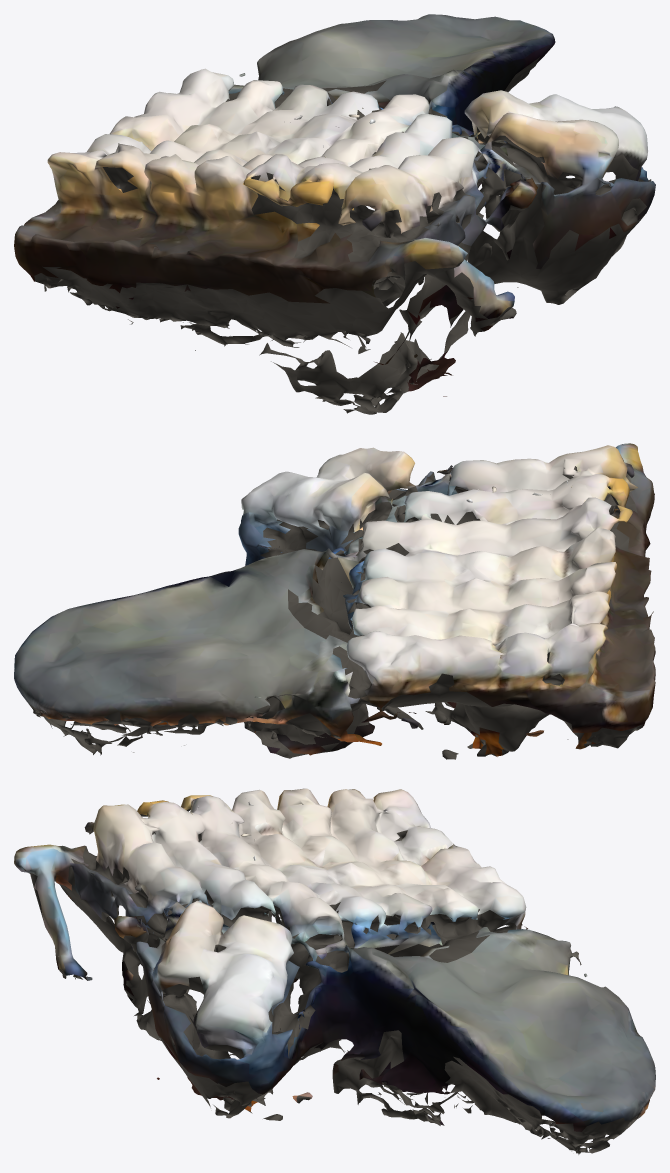
Rendered from scan.glb.
The picture shows the model from 3 angles, top to bottom: view 1: azimuth 30°, elevation 25°; view 2: azimuth 150°, elevation 25°; view 3: azimuth 270°, elevation 25°; orthographic projection. The views are drawn at different scales.
Parts seen in each view (by area): view 1: mesh_lowpoly; view 2: mesh_lowpoly; view 3: mesh_lowpoly.
Boxes of the visible parts, left/top/right/bottom form: mesh_lowpoly: left=14, top=14, right=655, bottom=414; mesh_lowpoly: left=14, top=443, right=655, bottom=759; mesh_lowpoly: left=14, top=788, right=655, bottom=1154.
Size of the model in its own units: 1.8 by 0.8743 by 1.82.
Materials: 2 (2 with a texture image).
